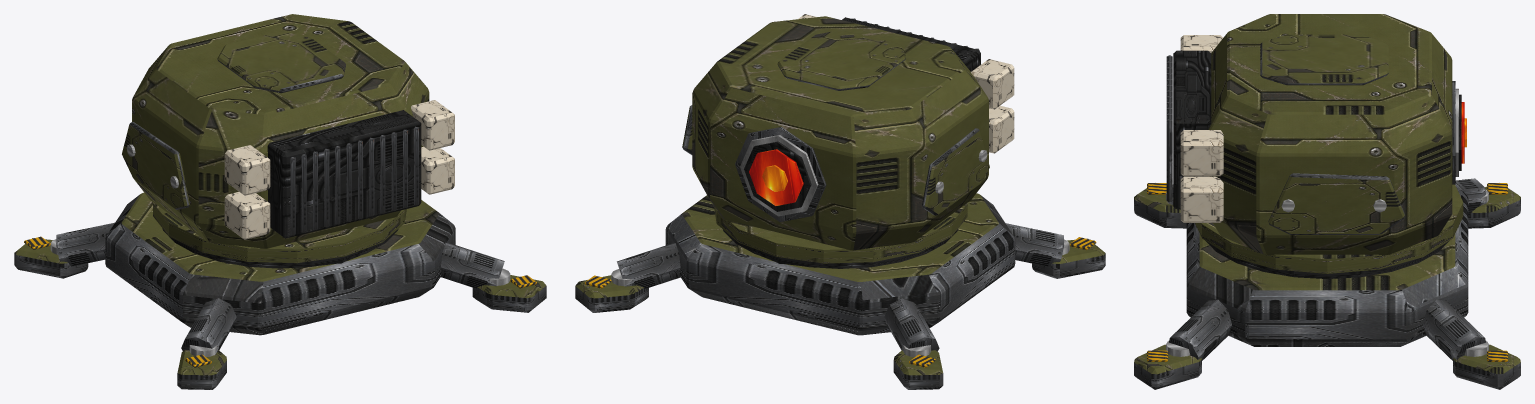
The model's file is iron-warden.glb.
3 renders of one model, left to right at view 1: azimuth 30°, elevation 25°; view 2: azimuth 150°, elevation 25°; view 3: azimuth 270°, elevation 25°, orthographic. The views are drawn at different scales.
Parts seen in each view (by area): view 1: Iron Warden painted hull; view 2: Iron Warden painted hull; view 3: Iron Warden painted hull.
Part boxes in pixels (bbox=[...]): Iron Warden painted hull: bbox=[14, 14, 546, 389]; Iron Warden painted hull: bbox=[575, 14, 1105, 389]; Iron Warden painted hull: bbox=[1134, 14, 1520, 389].
Size of the model in its own units: 3.66 by 2.16 by 3.16.
8 materials, 8 textured.
